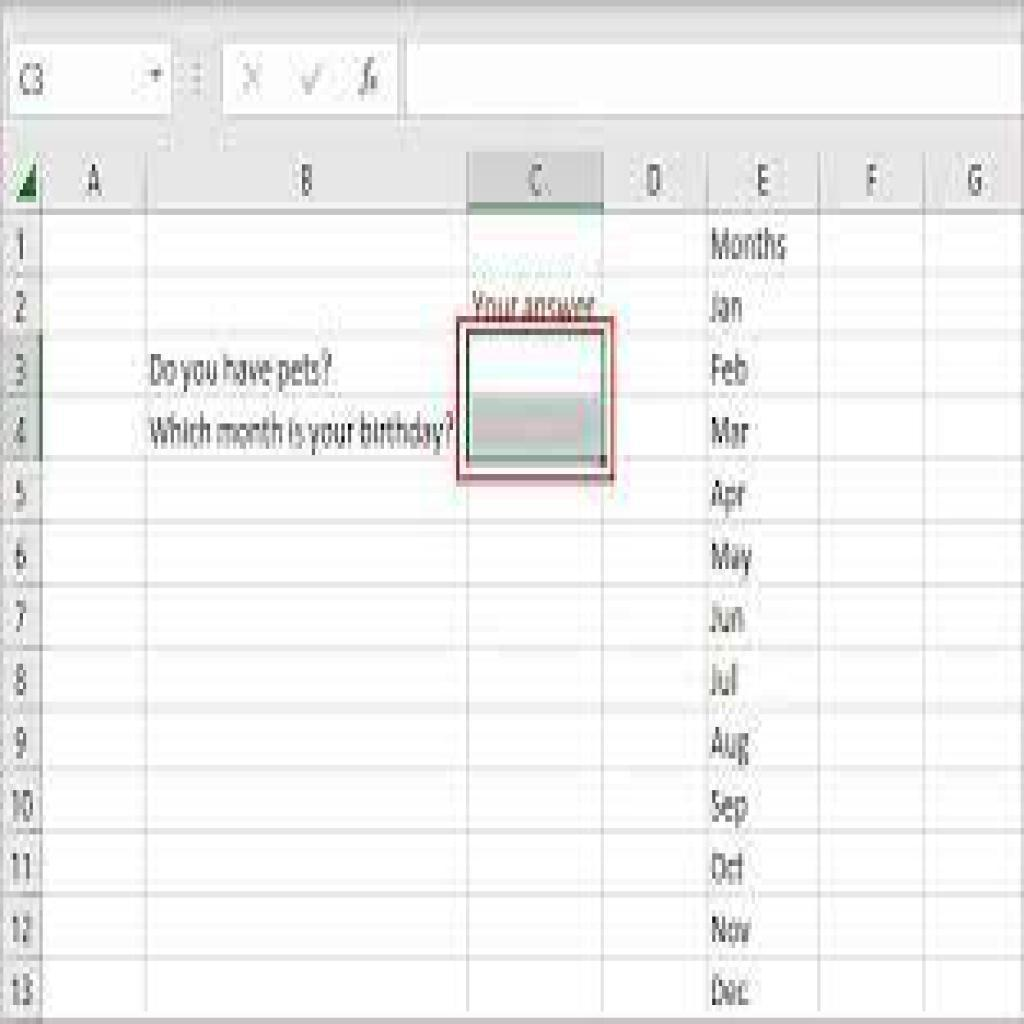dropdown: (11, 44, 171, 118)
input: (408, 42, 1024, 117)
table: (1, 152, 1024, 1024)
